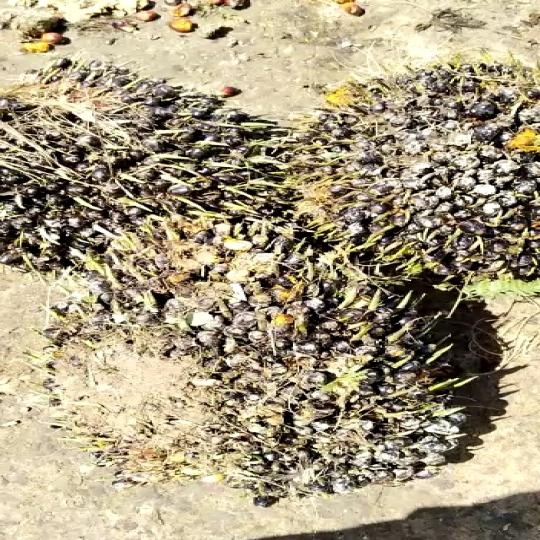mentah: (33, 227, 492, 510), (0, 25, 259, 248), (286, 58, 540, 272)
